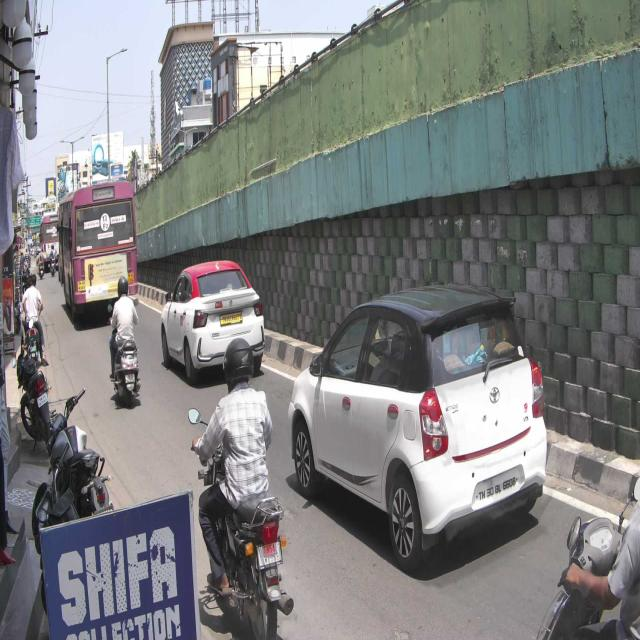single_rider: (200, 338, 296, 640), (108, 275, 142, 407)
